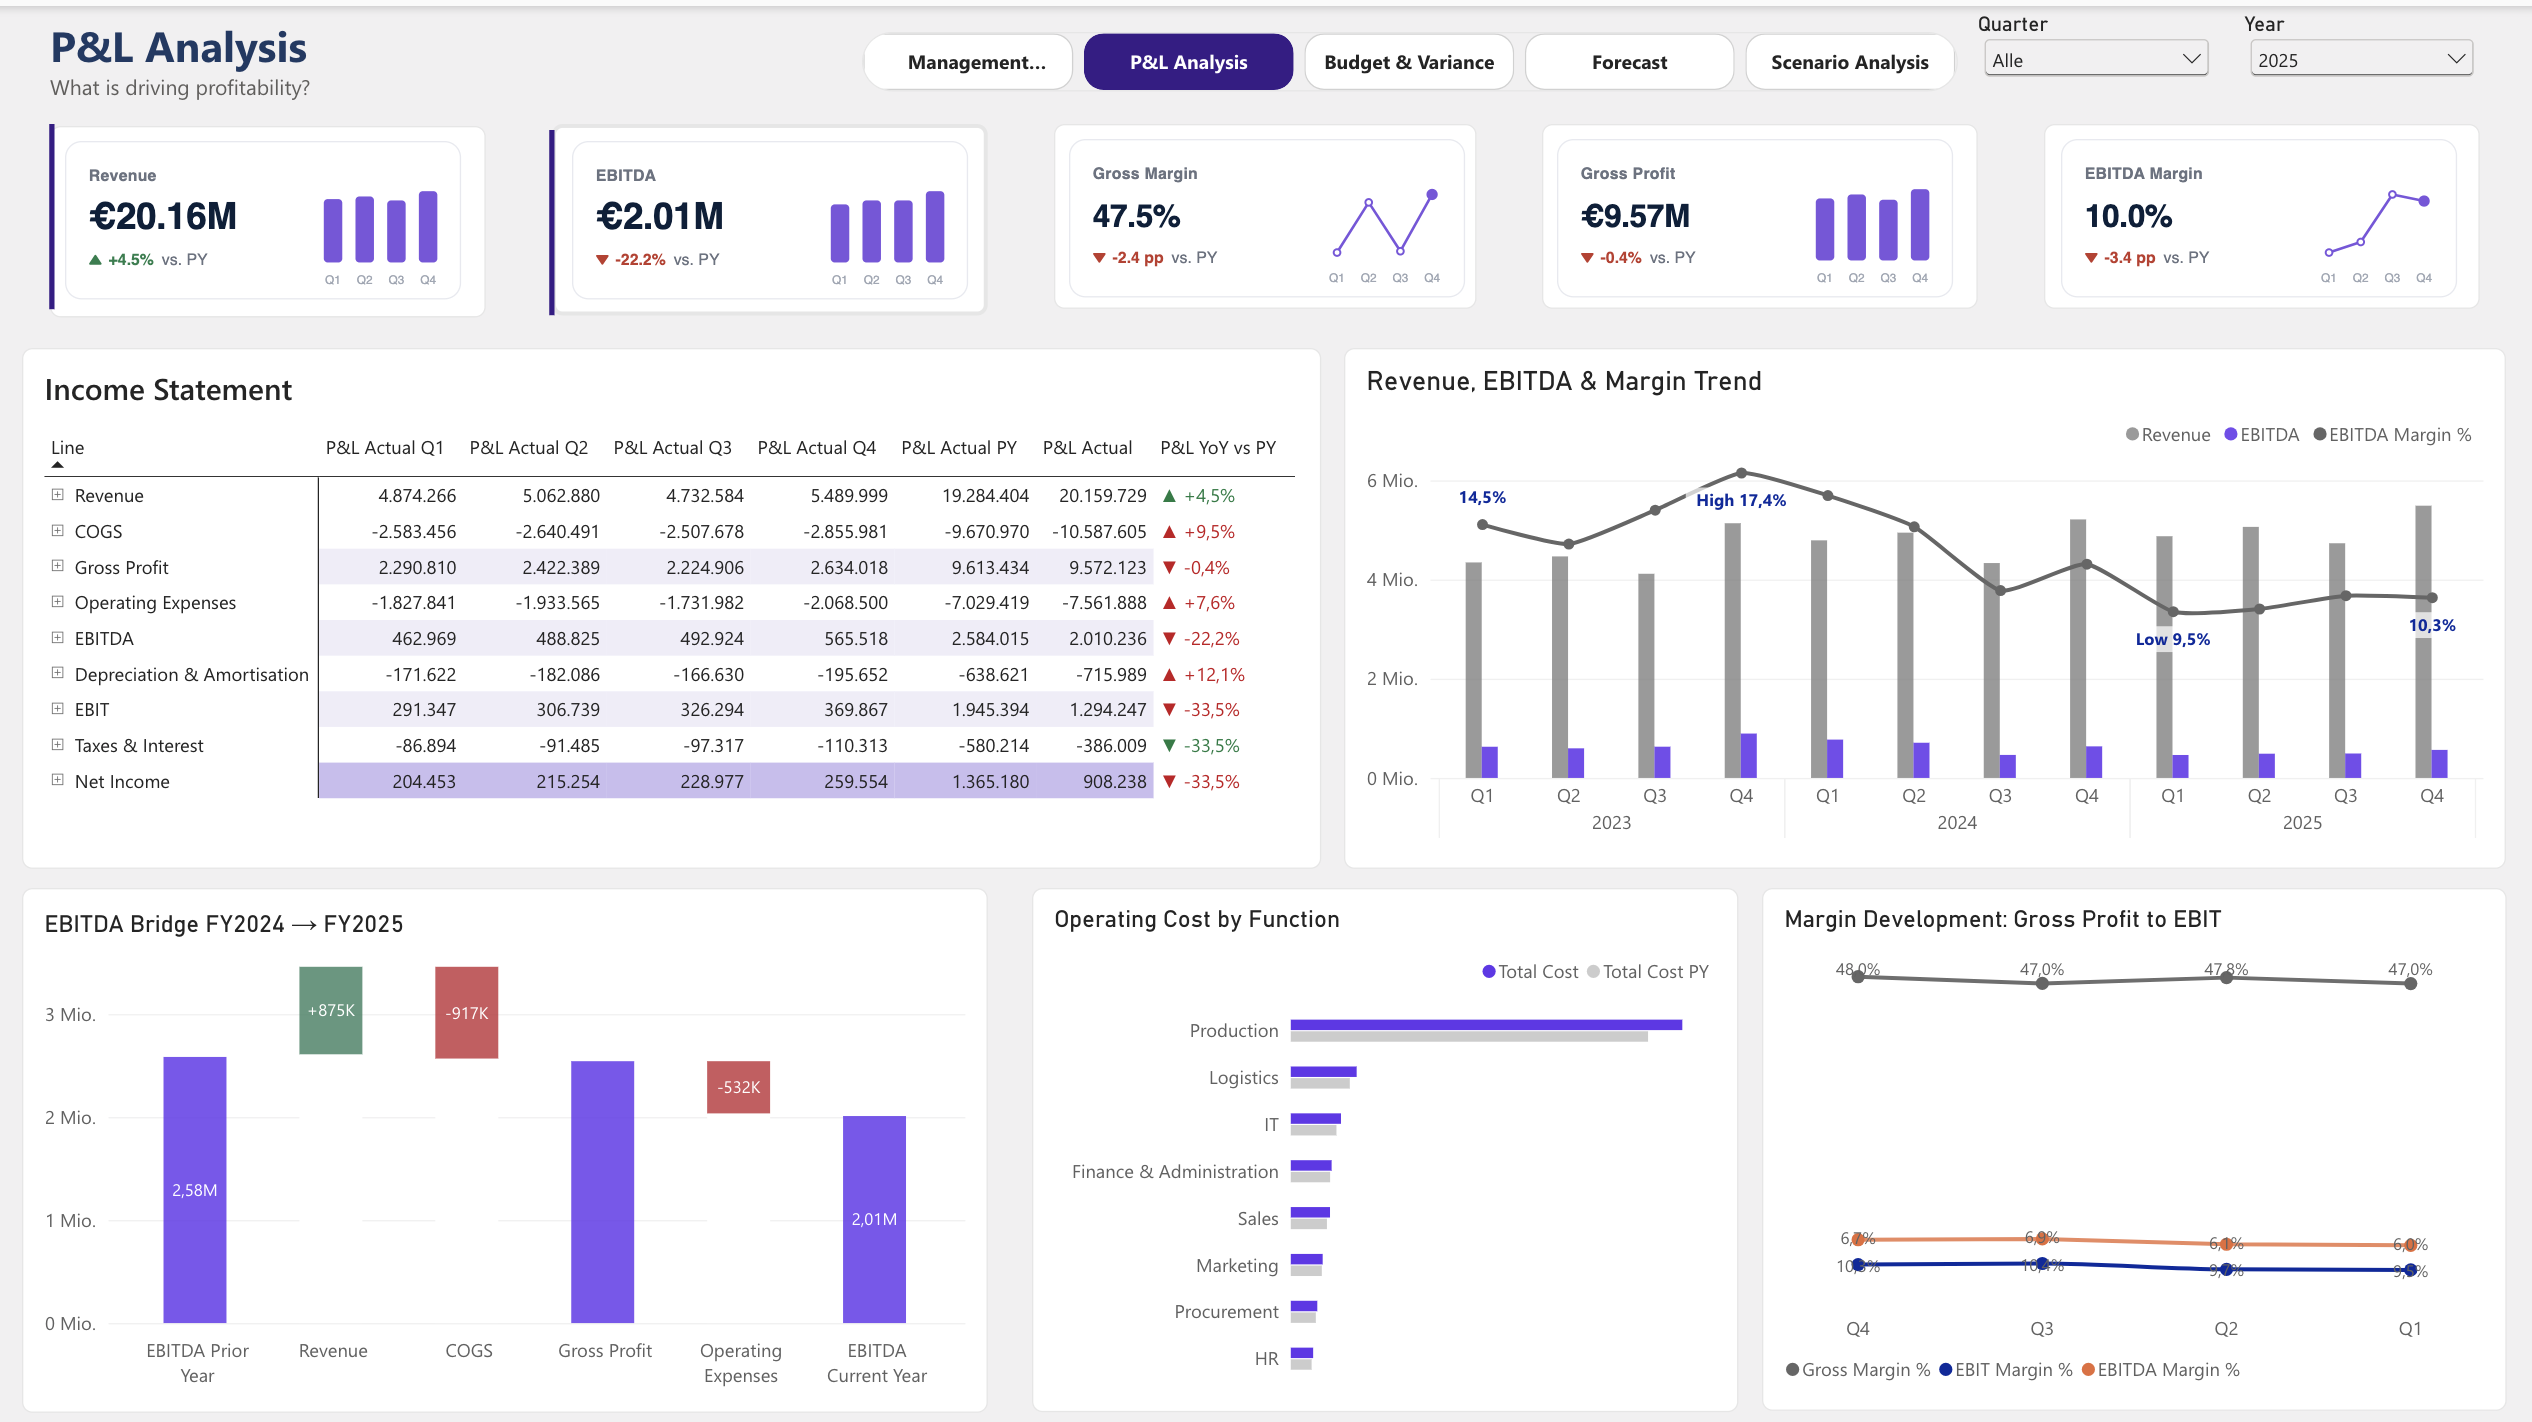

The dashboard page shown, as its layout file describes it:
{"tool":"powerbi","page":{"name":" P&L Analysis","canvas":[1920,1080],"ordinal":1},"visuals":[{"type":"group","id":"g1","title":"Group 2","box":[40,8,600,72],"z":0},{"type":"slicer","title":"Year","fields":{"Values":["dim_date.year"]},"box":[1701.1,5.4,179.2,50.7],"z":1000,"group":"g4"},{"type":"textbox","box":[40,8,600,72],"z":1000,"group":"g1"},{"type":"clusteredBarChart","title":"Operating Cost by Function","fields":{"Category":["dim_cost_center.cost_center_name"],"Y":["_Measures.Total Cost","_Measures.Total Cost PY"]},"box":[782.9,667.3,535,397],"z":1000},{"type":"pivotTable","title":"Income Statement","fields":{"Rows":["PnL_Layout.Line","dim_account.pnl_group"],"Values":["_Measures.P&L Actual Q1","_Measures.P&L Actual Q2","_Measures.P&L Actual Q3","_Measures.P&L Actual Q4","_Measures.P&L Actual PY","_Measures.P&L Actual","_Measures.P&L YoY vs PY Label"]},"box":[18.1,258.8,983.8,394.6],"z":2000},{"type":"lineClusteredColumnComboChart","title":"Revenue, EBITDA & Margin Trend","fields":{"Category":["Chart_YearQuarter.Year","Chart_YearQuarter.Quarter"],"Y":["_Measures.Revenue 3Y Window","_Measures.EBITDA 3Y Window"],"Y2":["_Measures.EBITDA Margin % 3Y Window"]},"box":[1018.8,258.8,880.2,394.6],"z":3000},{"type":"htmlContent443BE3AD55E043BF878BED274D3A6855","fields":{"content":["_Measures.SVG KPI Card Gross Profit HTML"]},"box":[1170,90,330,140],"z":4000},{"type":"htmlContent443BE3AD55E043BF878BED274D3A6855","fields":{"content":["_Measures.SVG KPI Card Revenue HTML"]},"box":[40,90,330,145],"z":5000,"group":"g2"},{"type":"htmlContent443BE3AD55E043BF878BED274D3A6855","fields":{"content":["_Measures.SVG KPI Card Gross Margin HTML"]},"box":[800,90,320.1,140.1],"z":5000},{"type":"htmlContent443BE3AD55E043BF878BED274D3A6855","fields":{"content":["_Measures.SVG KPI Card EBITDA Margin HTML"]},"box":[1550,90,330,140],"z":6000},{"type":"slicer","title":"Quarter","fields":{"Values":["dim_date.quarter"]},"box":[1500.2,5.4,180,56],"z":8000,"group":"g4"},{"type":"htmlContent443BE3AD55E043BF878BED274D3A6855","fields":{"content":["_Measures.SVG KPI Card EBITDA HTML"]},"box":[420,90,330,145],"z":8000,"group":"g3"},{"type":"columnChart","fields":{"Category":["EBITDA_Bridge.Step"],"Y":["_Measures.EBITDA Bridge Base","_Measures.EBITDA Bridge Total","_Measures.EBITDA Bridge Increase","_Measures.EBITDA Bridge Decrease"]},"box":[18.2,668,731.5,397.5],"z":8000},{"type":"group","id":"g2","title":"Group 1","box":[0,89.2,370,145.8],"z":9000},{"type":"group","id":"g3","title":"Group 3","box":[378.9,90,371.1,145.2],"z":10000},{"type":"lineChart","title":"Margin Development: Gross Profit to EBIT","fields":{"Category":["dim_date.quarter"],"Y":["_Measures.Gross Margin %","_Measures.Operating Margin %","_Measures.EBITDA Margin %"]},"box":[1335.5,667.7,564.2,395.8],"z":11000},{"type":"group","id":"g4","title":"Group 4","box":[1500.2,5.4,380,56],"z":12000},{"type":"shape","box":[0,89.2,81.6,140.4],"z":12001,"group":"g2"},{"type":"shape","box":[378.9,94.7,81.6,140.4],"z":12002,"group":"g3"},{"type":"pageNavigator","box":[655,19,830,45],"z":14000}]}

Visuals, with their boxes in screenshot pixels (x1, y1, x2, y2), scaled from the page's 1920x1080 canvas onto the 2532x1422 screenshot:
"Group 2" group: detection(53, 11, 844, 105)
"Year" slicer: detection(2243, 7, 2480, 74)
textbox: detection(53, 11, 844, 105)
"Operating Cost by Function" clusteredBarChart: detection(1032, 879, 1738, 1401)
"Income Statement" pivotTable: detection(24, 341, 1321, 860)
"Revenue, EBITDA & Margin Trend" lineClusteredColumnComboChart: detection(1344, 341, 2504, 860)
htmlContent443BE3AD55E043BF878BED274D3A6855 - _Measures.SVG KPI Card Gross Profit HTML: detection(1543, 118, 1978, 303)
htmlContent443BE3AD55E043BF878BED274D3A6855 - _Measures.SVG KPI Card Revenue HTML: detection(53, 118, 488, 309)
htmlContent443BE3AD55E043BF878BED274D3A6855 - _Measures.SVG KPI Card Gross Margin HTML: detection(1055, 118, 1477, 303)
htmlContent443BE3AD55E043BF878BED274D3A6855 - _Measures.SVG KPI Card EBITDA Margin HTML: detection(2044, 118, 2479, 303)
"Quarter" slicer: detection(1978, 7, 2216, 81)
htmlContent443BE3AD55E043BF878BED274D3A6855 - _Measures.SVG KPI Card EBITDA HTML: detection(554, 118, 989, 309)
columnChart - EBITDA_Bridge.Step x _Measures.EBITDA Bridge Base: detection(24, 880, 989, 1403)
"Group 1" group: detection(0, 117, 488, 309)
"Group 3" group: detection(500, 118, 989, 310)
"Margin Development: Gross Profit to EBIT" lineChart: detection(1761, 879, 2505, 1400)
"Group 4" group: detection(1978, 7, 2480, 81)
shape: detection(0, 117, 108, 302)
shape: detection(500, 125, 607, 310)
pageNavigator: detection(864, 25, 1958, 84)
